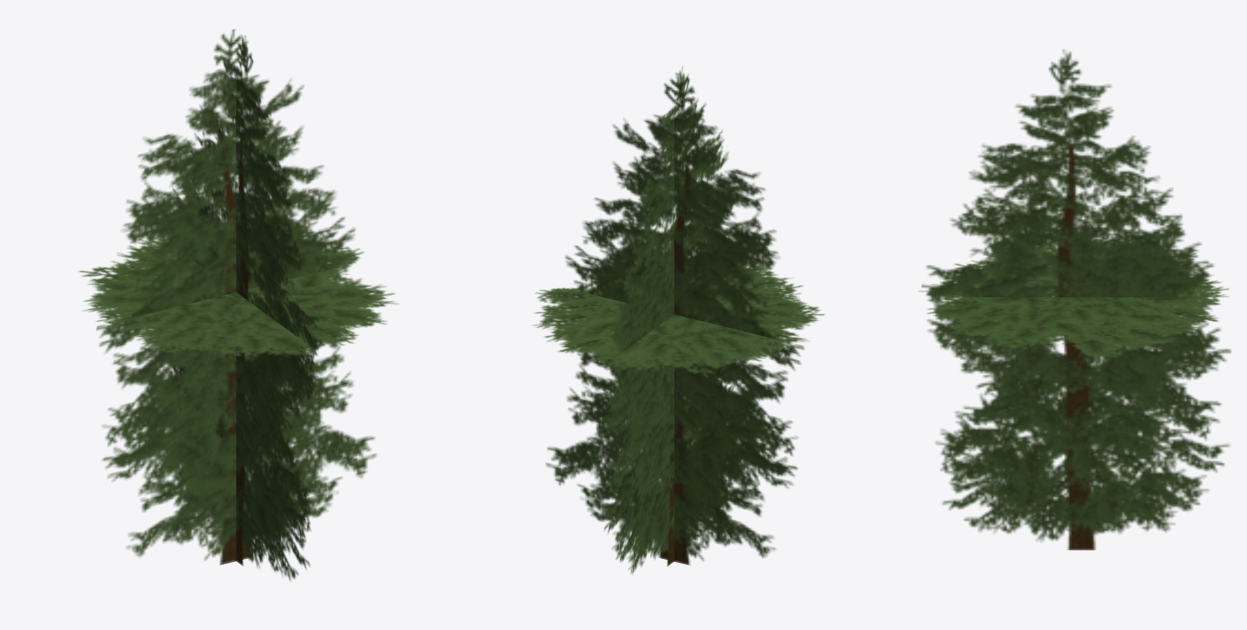
The model's file is fir-large-3-lod-3.glb.
The picture shows the model from 3 angles, left to right: view 1: azimuth 30°, elevation 25°; view 2: azimuth 150°, elevation 25°; view 3: azimuth 270°, elevation 25°; orthographic projection. The views are drawn at different scales.
Visible parts, largest first — view 1: fir-large-3-lod-3; view 2: fir-large-3-lod-3; view 3: fir-large-3-lod-3.
Part boxes in pixels (<box>): fir-large-3-lod-3: <box>79,29,397,580</box>; fir-large-3-lod-3: <box>532,66,824,574</box>; fir-large-3-lod-3: <box>918,49,1231,550</box>.
Bounding box in the file's own units: 4.54 × 8.08 × 4.64.
1 material, 1 textured.
